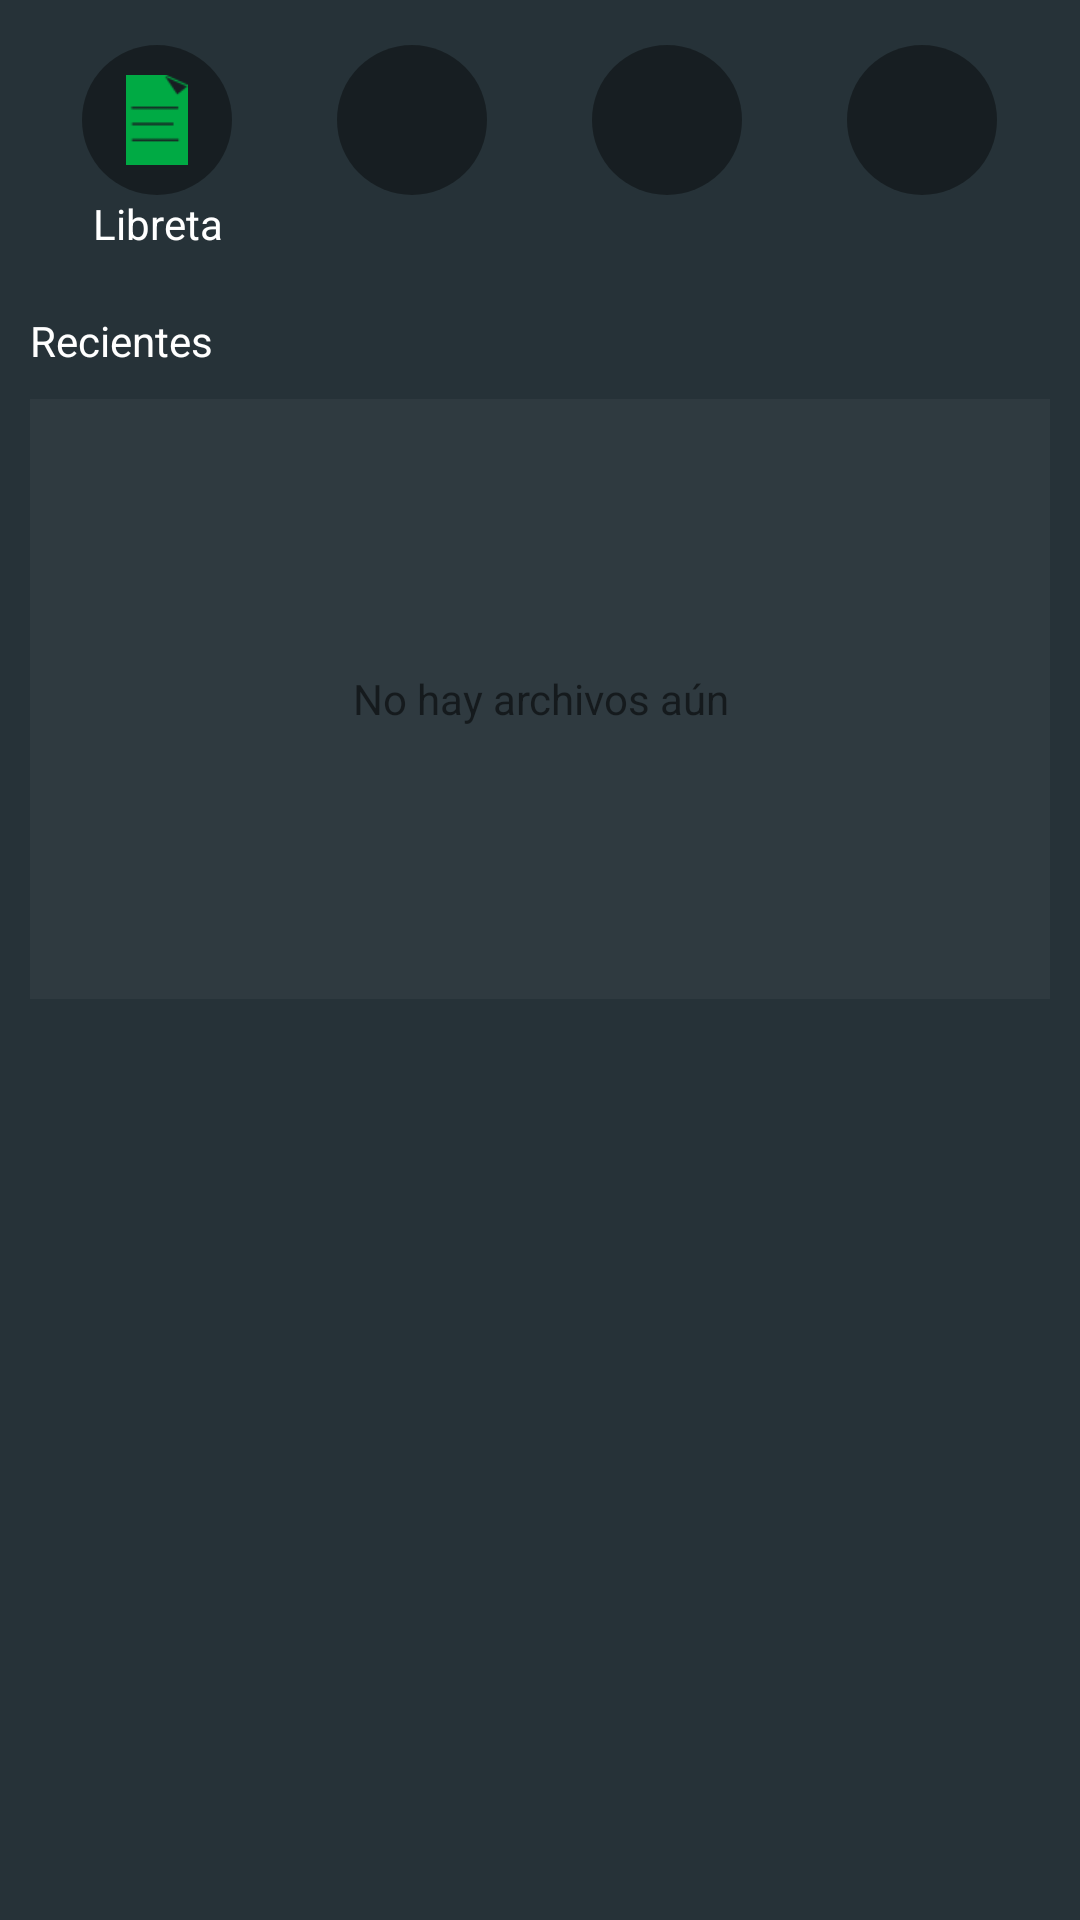

Where to tap for icons on this 1080x1920 app screen, as [x,y]:
nota simple: [157,120]
